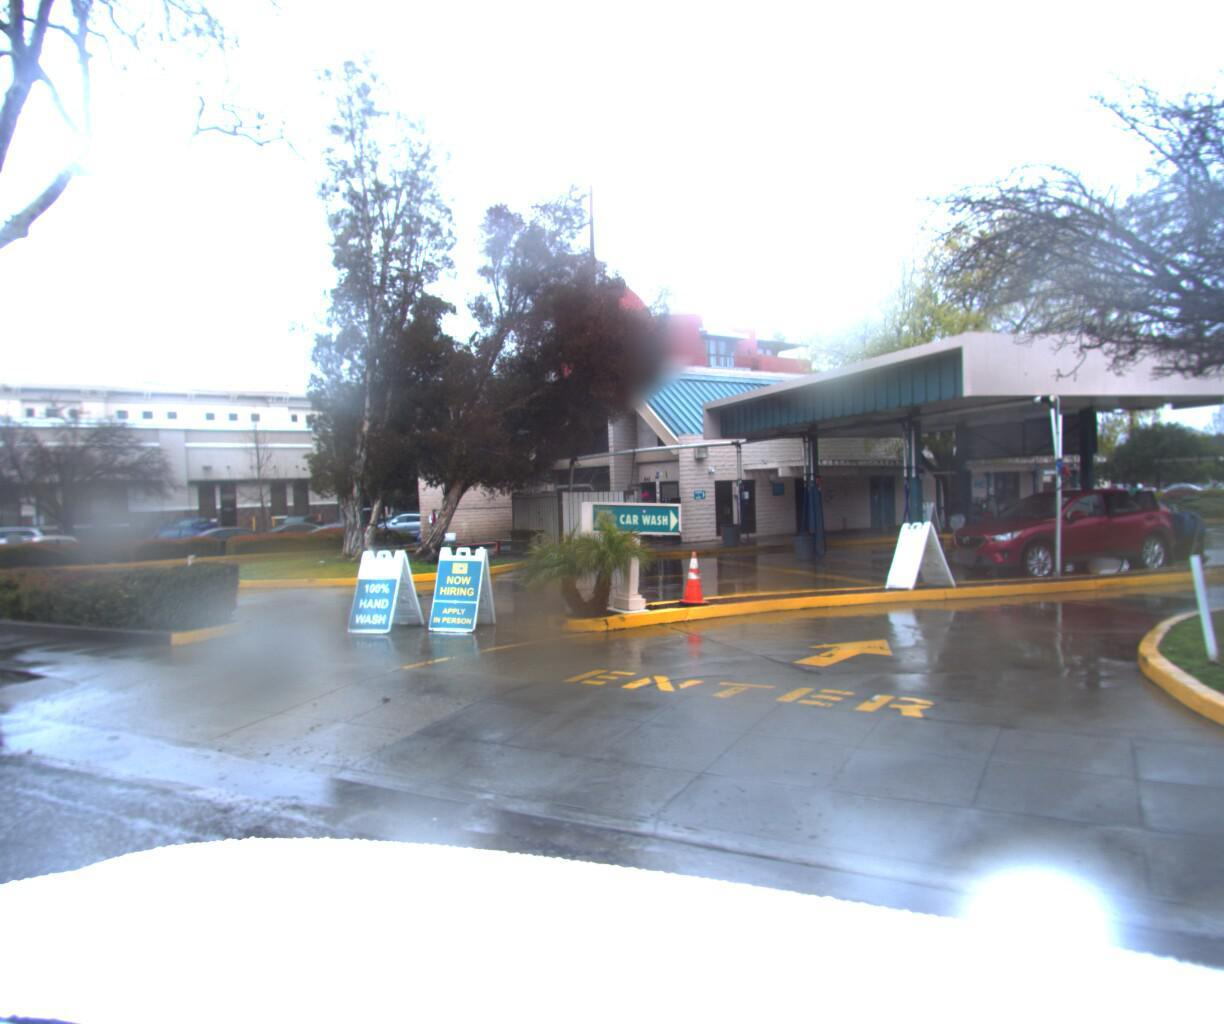bicycle: (341, 513, 412, 556)
car: (929, 479, 1204, 584), (113, 523, 222, 562), (353, 511, 440, 545), (0, 525, 54, 570), (149, 514, 223, 547)
